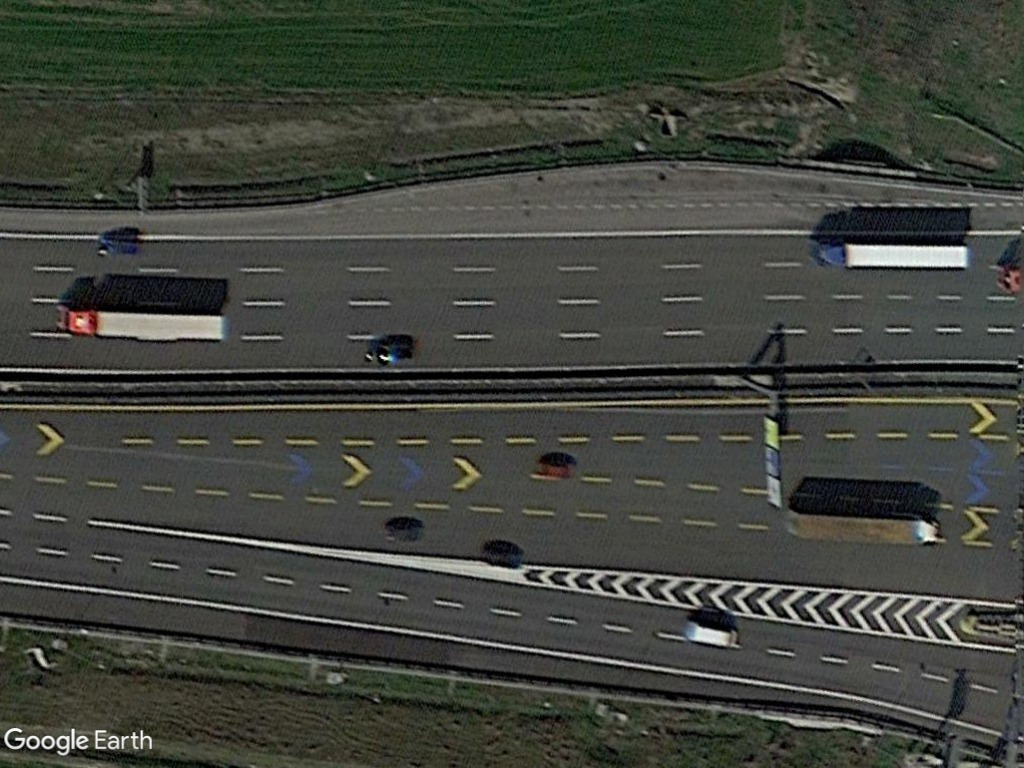longvehicle: (49, 300, 231, 343), (783, 501, 945, 549), (804, 237, 976, 275)
